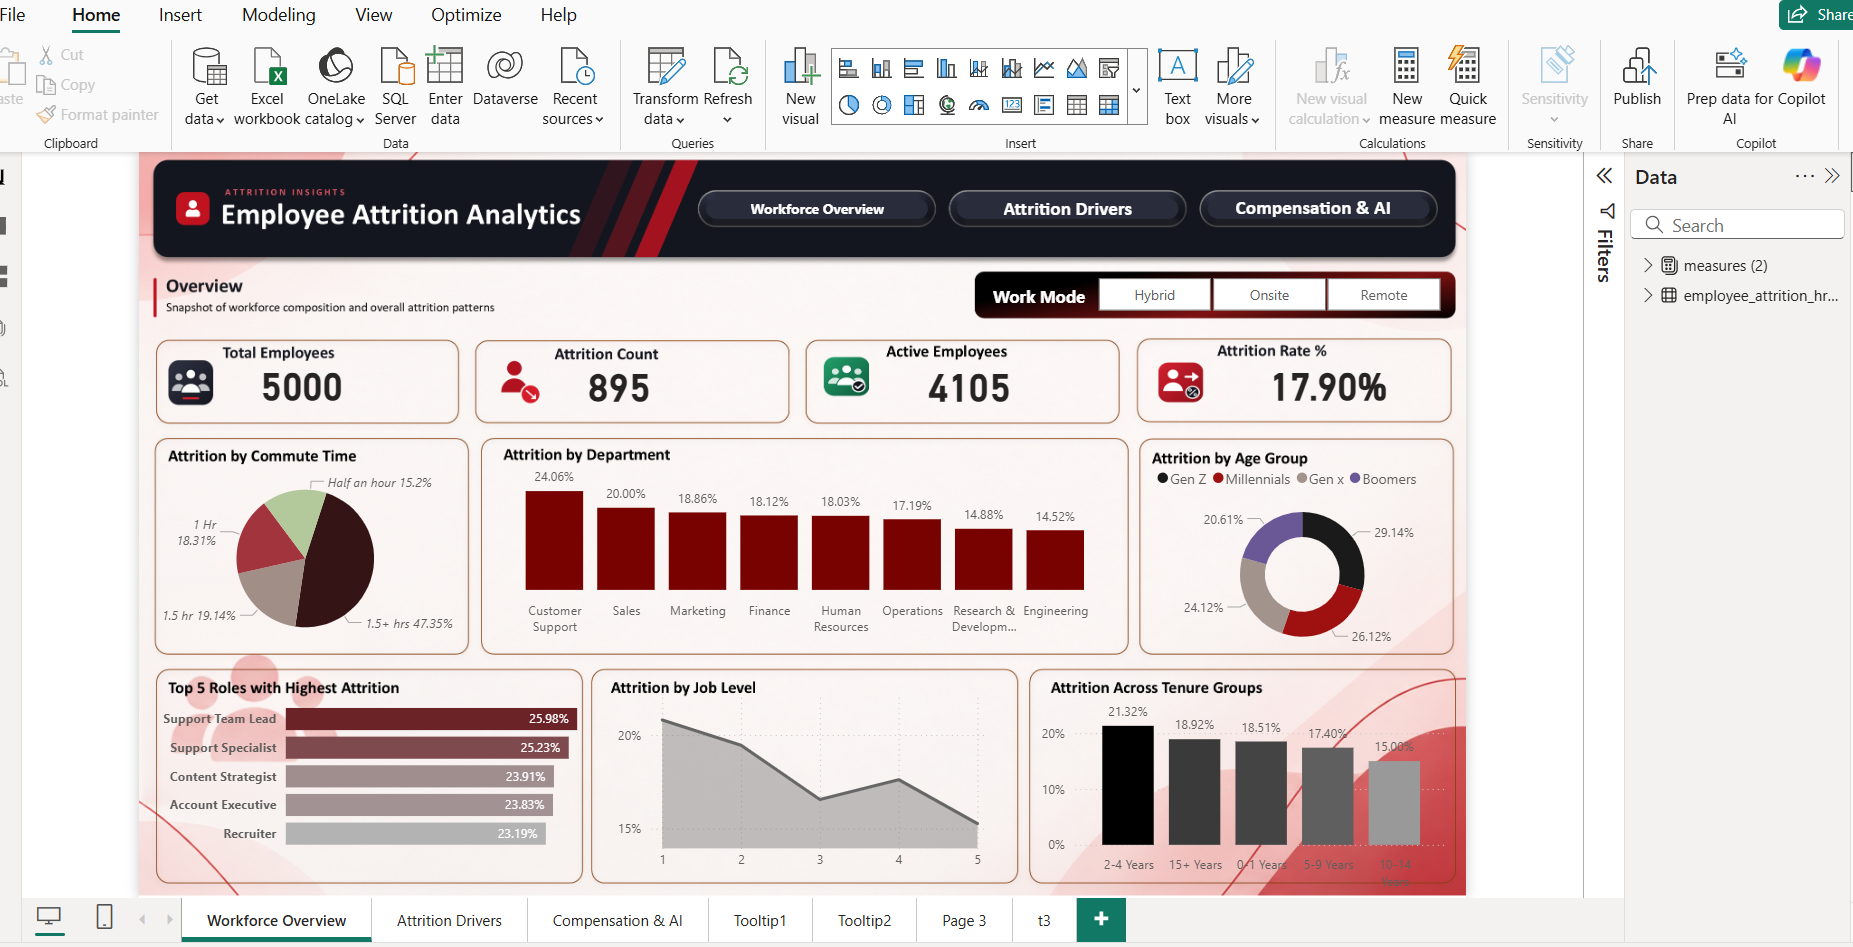

The page's visual inventory and layout, read from the dashboard file:
{"tool":"powerbi","page":{"name":"Workforce Overview","canvas":[1280,720],"ordinal":0},"visuals":[{"type":"card","fields":{"Values":["measures (2).Total employees"]},"box":[32.9,174.3,248.6,100],"z":0},{"type":"card","fields":{"Values":["measures (2).Attrition rate"]},"box":[1038.6,197.1,218.6,54.3],"z":1000},{"type":"clusteredColumnChart","fields":{"Y":["measures (2).Attrition rate"],"Category":["employee_attrition_hr_2026.department"]},"box":[331.4,290,614.3,184.3],"z":2000},{"type":"clusteredBarChart","fields":{"Category":["employee_attrition_hr_2026.job_role"],"Y":["measures (2).Attrition rate"]},"box":[17.1,512.9,457.1,172.9],"z":3000},{"type":"lineChart","fields":{"Category":["employee_attrition_hr_2026.job_level"],"Y":["measures (2).Attrition rate"]},"box":[457.1,512.9,367.1,188.6],"z":4000},{"type":"clusteredColumnChart","fields":{"Y":["measures (2).Attrition rate"],"Category":["employee_attrition_hr_2026.Tenure_group"]},"box":[865.7,512.9,402.9,207.1],"z":5000},{"type":"donutChart","fields":{"Category":["employee_attrition_hr_2026.age_group"],"Y":["measures (2).Attrition rate"]},"box":[977.1,294.3,291.4,197.1],"z":6000},{"type":"slicer","fields":{"Values":["employee_attrition_hr_2026.work_mode"]},"box":[900,114.3,380,45.7],"z":7000},{"type":"card","fields":{"Values":["measures (2).Attrition count"]},"box":[331.4,182.9,264.3,82.9],"z":8000},{"type":"card","fields":{"Values":["measures (2).Active Employees"]},"box":[718.6,182.9,165.7,82.9],"z":9000},{"type":"pieChart","fields":{"Y":["measures (2).Attrition rate"],"Category":["employee_attrition_hr_2026.commute_group"]},"box":[0,300,321.4,184.3],"z":10000},{"type":"textbox","box":[818.6,122.9,195.7,51.4],"z":11000},{"type":"pageNavigator","box":[788.6,40,215.7,28.6],"z":12000},{"type":"pageNavigator","box":[555.7,34.3,197.1,40],"z":13000},{"type":"pageNavigator","box":[1024.3,40,218.6,28.6],"z":14000}]}

Visuals, with their boxes on the page's 1280x720 design canvas (x1, y1, x2, y2). These are canvas units, not pixel positions in the 1853x947 screenshot, which may show the page scaled, cropped or inside an application window:
card - measures (2).Total employees: bbox(33, 174, 282, 274)
card - measures (2).Attrition rate: bbox(1039, 197, 1257, 251)
clusteredColumnChart - measures (2).Attrition rate x employee_attrition_hr_2026.department: bbox(331, 290, 946, 474)
clusteredBarChart - employee_attrition_hr_2026.job_role x measures (2).Attrition rate: bbox(17, 513, 474, 686)
lineChart - employee_attrition_hr_2026.job_level x measures (2).Attrition rate: bbox(457, 513, 824, 702)
clusteredColumnChart - measures (2).Attrition rate x employee_attrition_hr_2026.Tenure_group: bbox(866, 513, 1269, 720)
donutChart - employee_attrition_hr_2026.age_group x measures (2).Attrition rate: bbox(977, 294, 1268, 491)
slicer - employee_attrition_hr_2026.work_mode: bbox(900, 114, 1280, 160)
card - measures (2).Attrition count: bbox(331, 183, 596, 266)
card - measures (2).Active Employees: bbox(719, 183, 884, 266)
pieChart - measures (2).Attrition rate x employee_attrition_hr_2026.commute_group: bbox(0, 300, 321, 484)
textbox: bbox(819, 123, 1014, 174)
pageNavigator: bbox(789, 40, 1004, 69)
pageNavigator: bbox(556, 34, 753, 74)
pageNavigator: bbox(1024, 40, 1243, 69)
